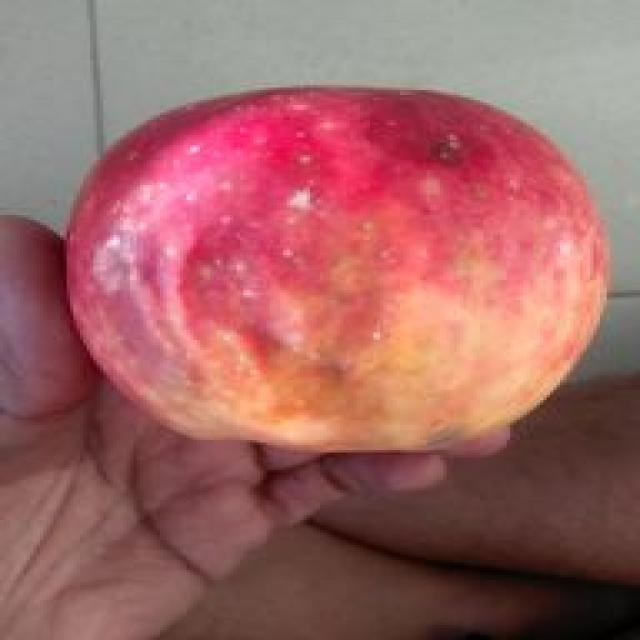Rotten_Apple: (49, 70, 640, 465)
